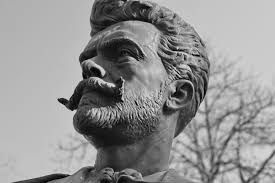no-mask: (67, 19, 183, 153)
